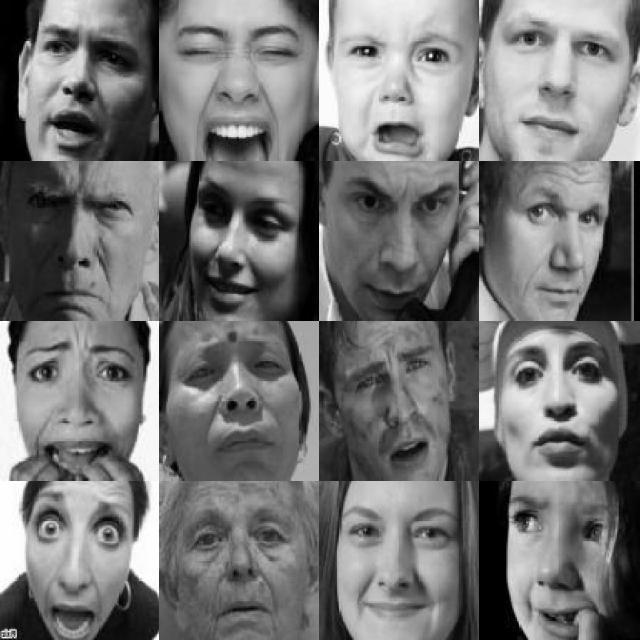anger: (17, 28, 137, 154), (14, 176, 138, 296), (343, 179, 455, 299)
fear: (334, 335, 445, 466), (23, 505, 135, 627)
happy: (184, 15, 304, 151), (340, 493, 451, 633), (511, 342, 613, 471), (186, 206, 298, 317)
neutral: (492, 17, 615, 148), (501, 175, 607, 312), (187, 512, 296, 640)
sad: (507, 498, 625, 638), (20, 342, 126, 480), (344, 28, 450, 154), (183, 342, 287, 460)
